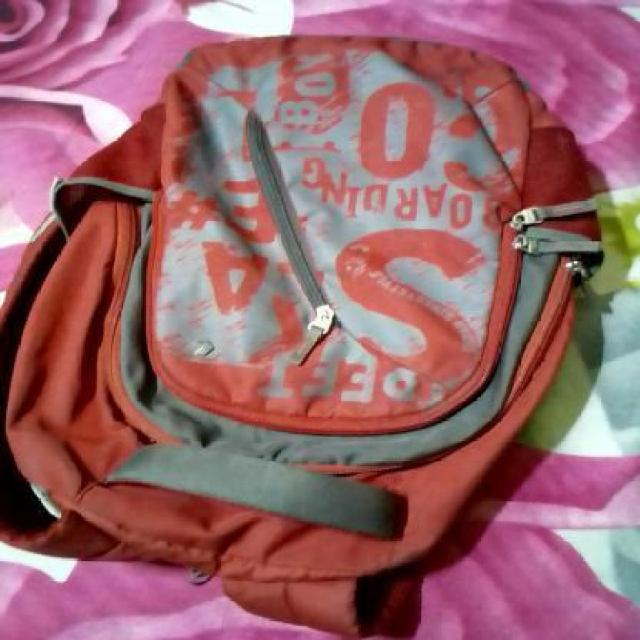backpack: (0, 27, 611, 640)
